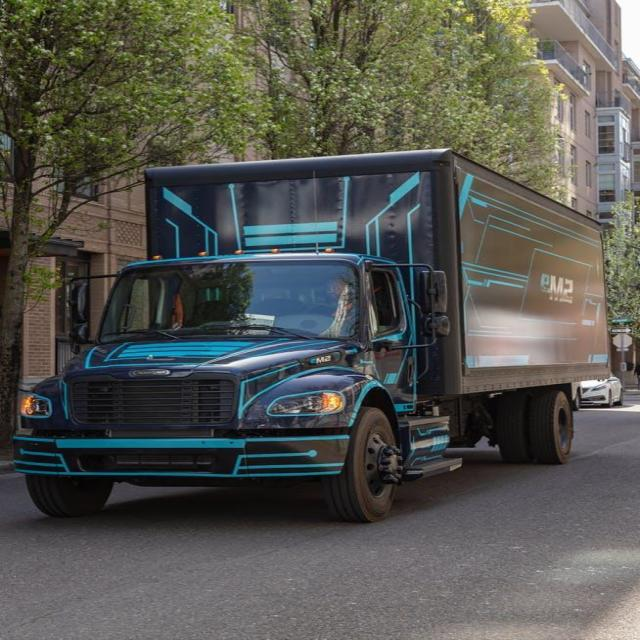truck: (22, 149, 603, 520)
